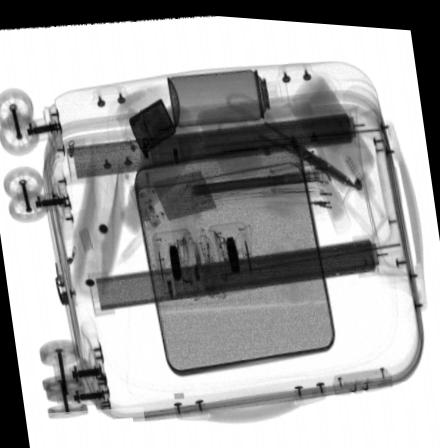Lighter: (127, 94, 175, 153)
Powerbank: (128, 160, 224, 232)
Scissors: (217, 90, 354, 181)
Sprayer: (166, 59, 290, 125)
